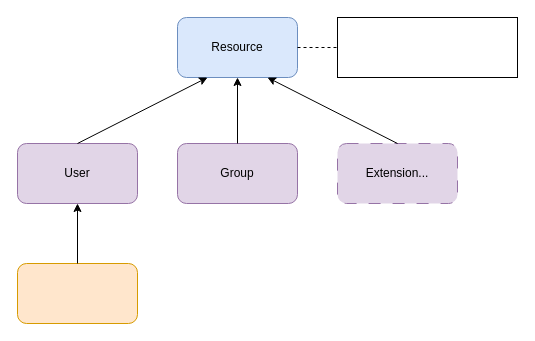
Some shapes in this 535 by 341 pixel diagram are drawn without their labels. Here are the shapes that lost their labels. From the top down, the centre of each, then its label:
At point 427,47: "Common: id, externalId, meta".
At point 77,293: "EnterpriseUser".
